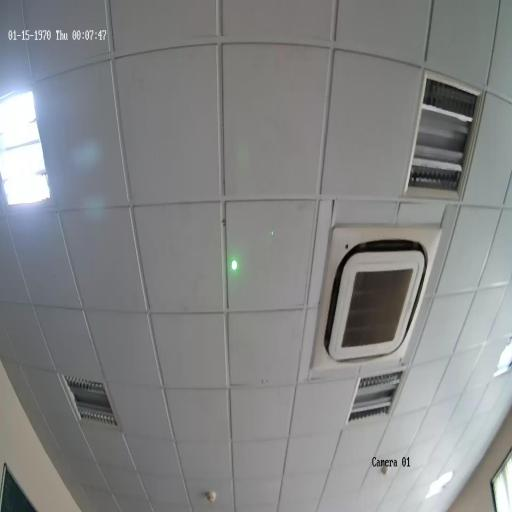laser: (231, 258, 238, 272)
